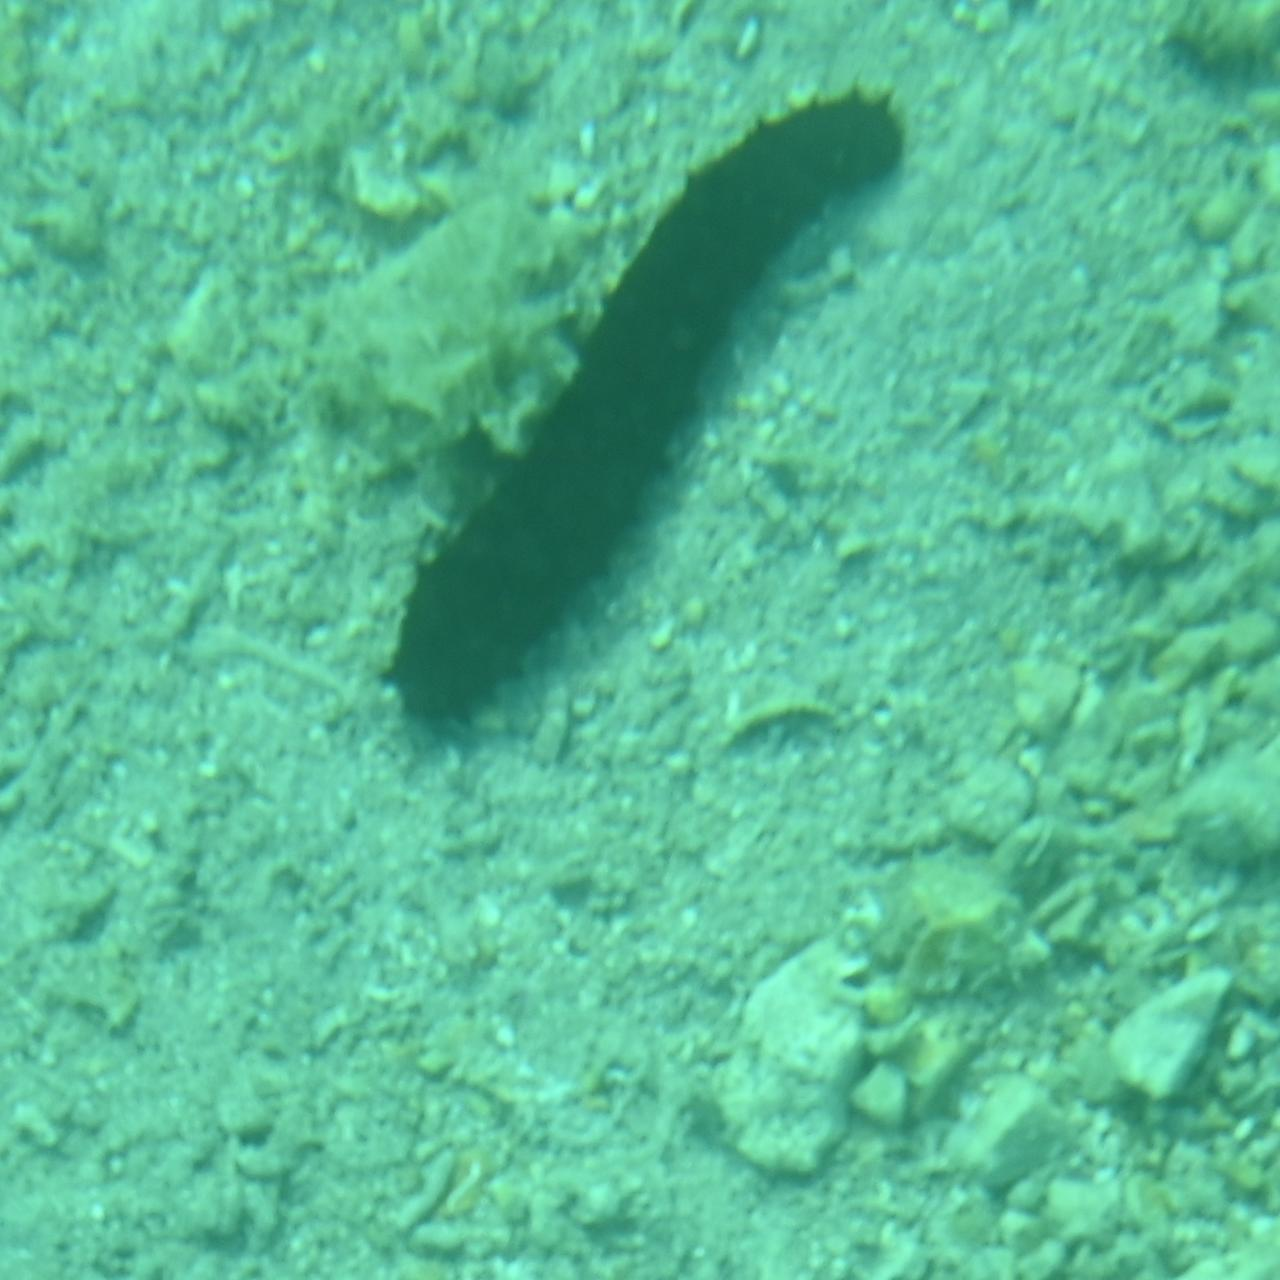Holothuria tubulosa: (356, 84, 924, 764)
